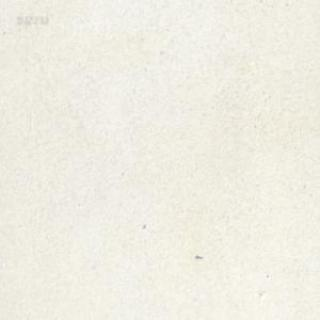Nailtrack_idkeyframe: (194, 253, 202, 258)
